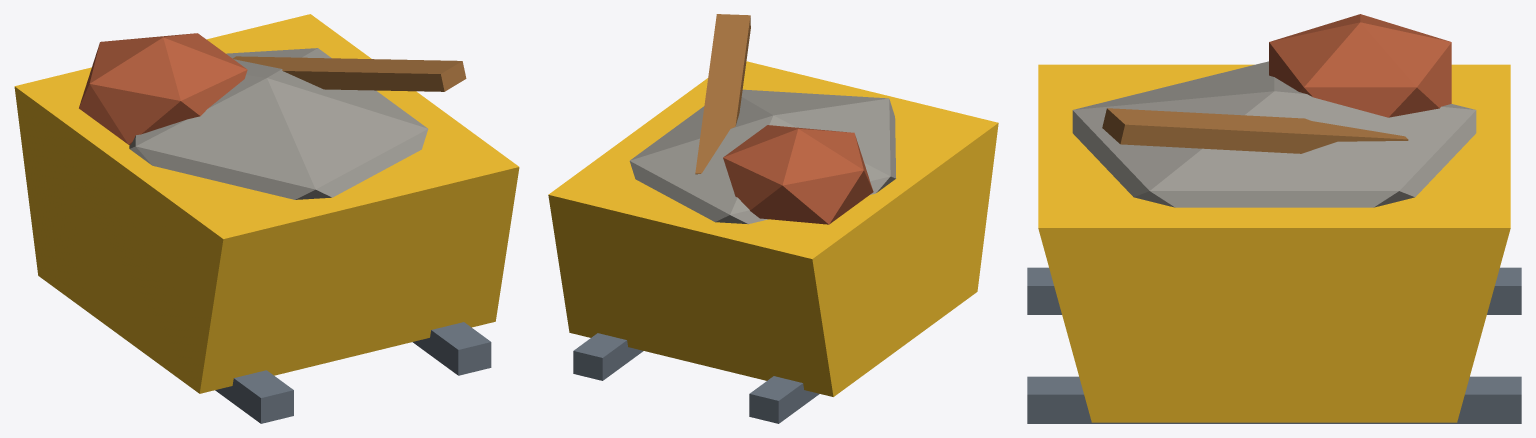
The model's file is cacamba_entulho.glb.
3 views of the same model, side by side, from view 1: azimuth 30°, elevation 25°; view 2: azimuth 150°, elevation 25°; view 3: azimuth 270°, elevation 25° (orthographic). The views are drawn at different scales.
Visible parts, largest first — view 1: corpo; view 2: corpo; view 3: corpo.
Part boxes in pixels (<box>): corpo: <box>14,14,519,423</box>; corpo: <box>548,14,998,423</box>; corpo: <box>1027,14,1521,423</box>.
Size of the model in its own units: 0.36 by 0.3157 by 0.46.
